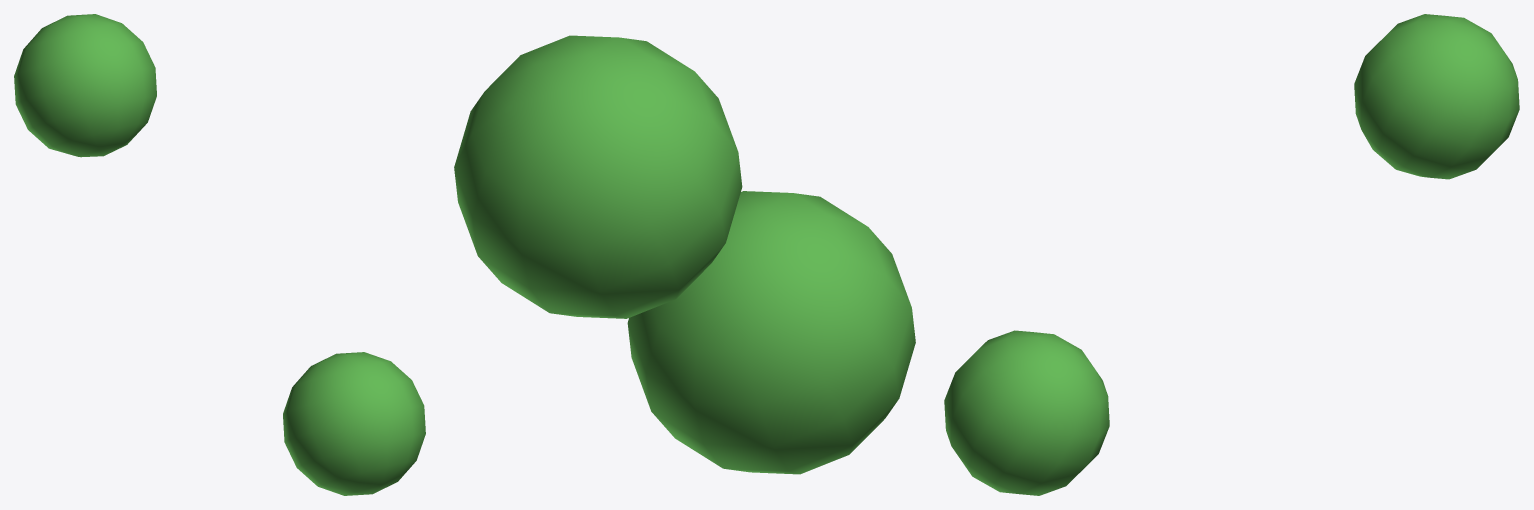
The model's file is linfatico-occipital-nodes-l.glb.
The picture shows the model from 3 angles, left to right: view 1: azimuth 30°, elevation 25°; view 2: azimuth 150°, elevation 25°; view 3: azimuth 270°, elevation 25°; orthographic projection. The views are drawn at different scales.
Visible parts, largest first — view 1: Occipital nodes.l; view 2: Occipital nodes.l; view 3: Occipital nodes.l.
Boxes of the visible parts, bbox=[...] form: Occipital nodes.l: bbox=[14, 14, 425, 495]; Occipital nodes.l: bbox=[454, 35, 915, 474]; Occipital nodes.l: bbox=[944, 14, 1519, 495].
Bounding box in the file's own units: 0.00448 × 0.00712 × 0.00893.
